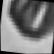correct: (1, 0, 54, 50)
